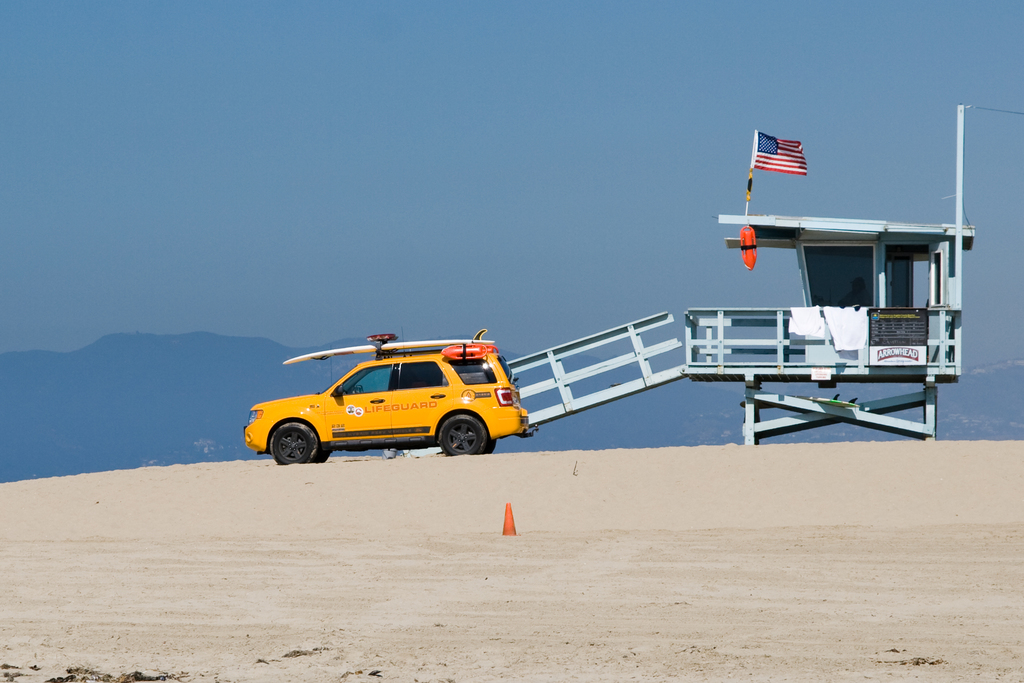Car: (246, 336, 531, 467)
